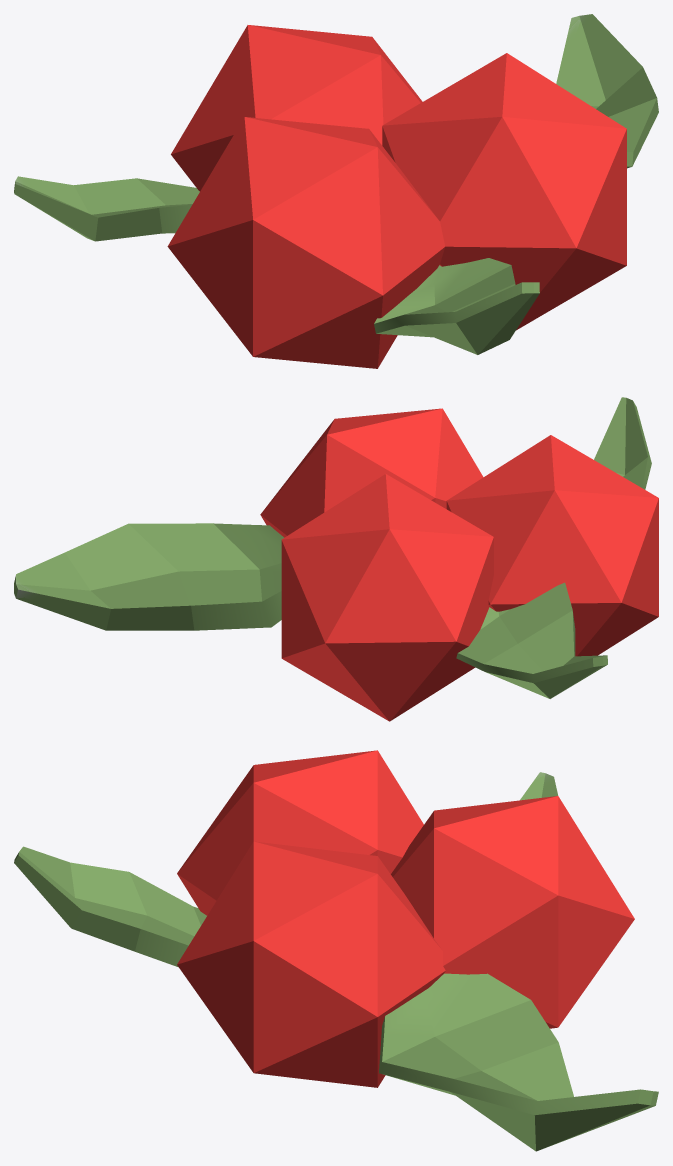
The model's file is red_berries.glb.
3 renders of one model, top to bottom at view 1: azimuth 30°, elevation 25°; view 2: azimuth 150°, elevation 25°; view 3: azimuth 270°, elevation 25°, orthographic. The views are drawn at different scales.
Parts seen in each view (by area): view 1: polySurface2, pPlatonic1, pCube5, pCube4, Leaf_02:pCube4; view 2: polySurface2, pPlatonic1, Leaf_02:pCube4, pCube4, pCube5; view 3: polySurface2, pPlatonic1, Leaf_02:pCube4, pCube5, pCube4.
Boxes of the visible parts, x1=… form: polySurface2: x1=167, y1=53, x2=626, y2=368; pPlatonic1: x1=171, y1=25, x2=422, y2=191; pCube5: x1=374, y1=258, x2=539, y2=354; pCube4: x1=14, y1=176, x2=199, y2=241; Leaf_02:pCube4: x1=556, y1=14, x2=658, y2=168; polySurface2: x1=260, y1=408, x2=658, y2=656; pPlatonic1: x1=281, y1=474, x2=493, y2=721; Leaf_02:pCube4: x1=14, y1=523, x2=284, y2=630; pCube4: x1=456, y1=582, x2=607, y2=698; pCube5: x1=594, y1=397, x2=651, y2=489; polySurface2: x1=177, y1=750, x2=445, y2=1087; pPlatonic1: x1=391, y1=796, x2=634, y2=1028; Leaf_02:pCube4: x1=379, y1=973, x2=658, y2=1151; pCube5: x1=14, y1=846, x2=206, y2=967; pCube4: x1=520, y1=772, x2=558, y2=800.
Size of the model in its own units: 5.09 by 1.7 by 4.65.
Materials: 4 (4 with a texture image).
